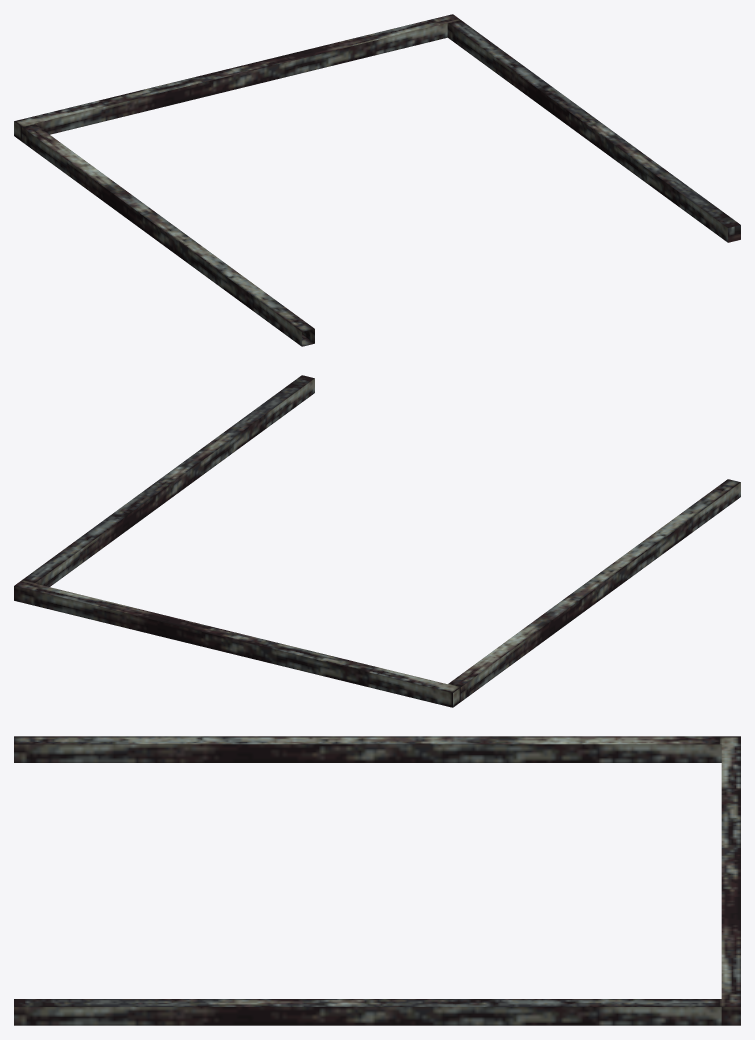
File: SM_EC_Barn_DoorFrame_1.fbx
3 views of the same model, one above another, from view 1: azimuth 30°, elevation 25°; view 2: azimuth 150°, elevation 25°; view 3: azimuth 270°, elevation 25° (orthographic). The views are drawn at different scales.
Parts seen in each view (by area): view 1: SM_EC_Barn_DoorFrame_1; view 2: SM_EC_Barn_DoorFrame_1; view 3: SM_EC_Barn_DoorFrame_1.
Boxes of the visible parts, x1,y1,x2,y2 form: SM_EC_Barn_DoorFrame_1: (14,14,740,346); SM_EC_Barn_DoorFrame_1: (14,375,740,707); SM_EC_Barn_DoorFrame_1: (14,736,740,1025).
Size of the model in its own units: 3.11 by 3.53 by 0.1.
